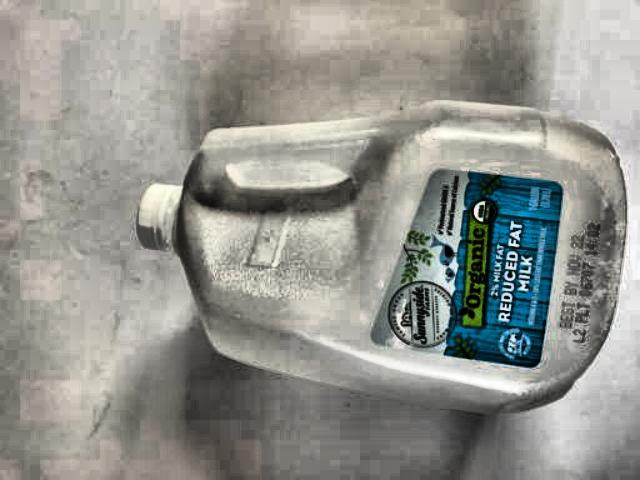Plastic: (118, 82, 640, 421)
